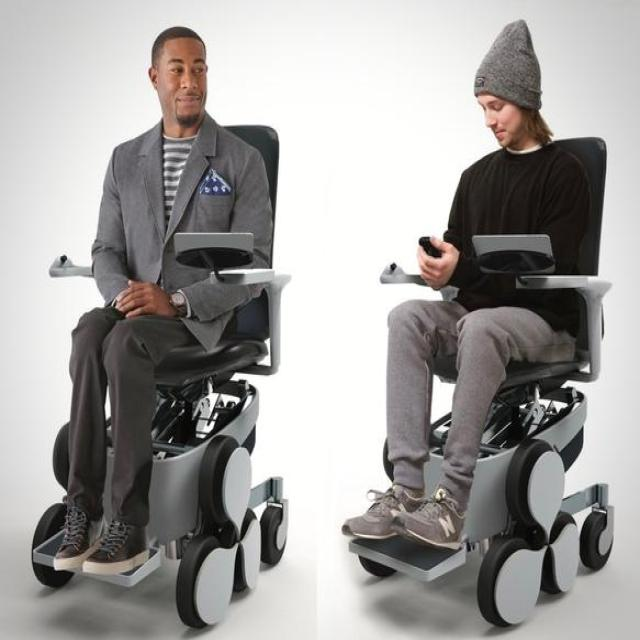wheelchairs: (18, 232, 309, 633), (343, 238, 635, 631)
